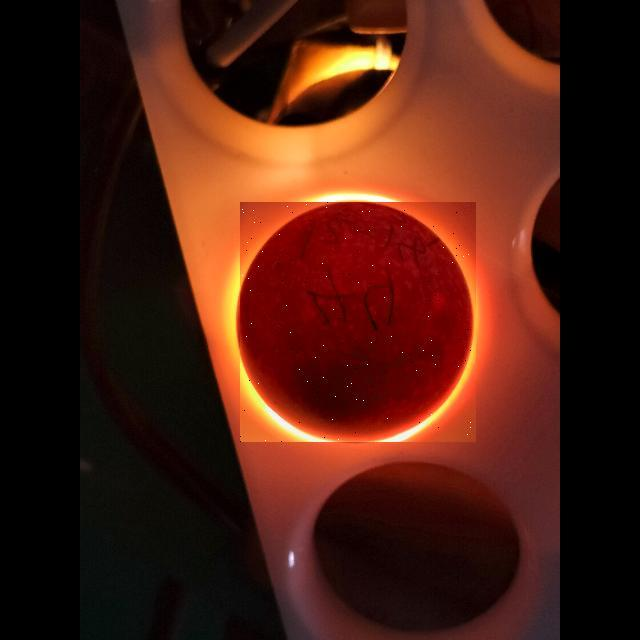Fertile: (240, 202, 476, 442)
